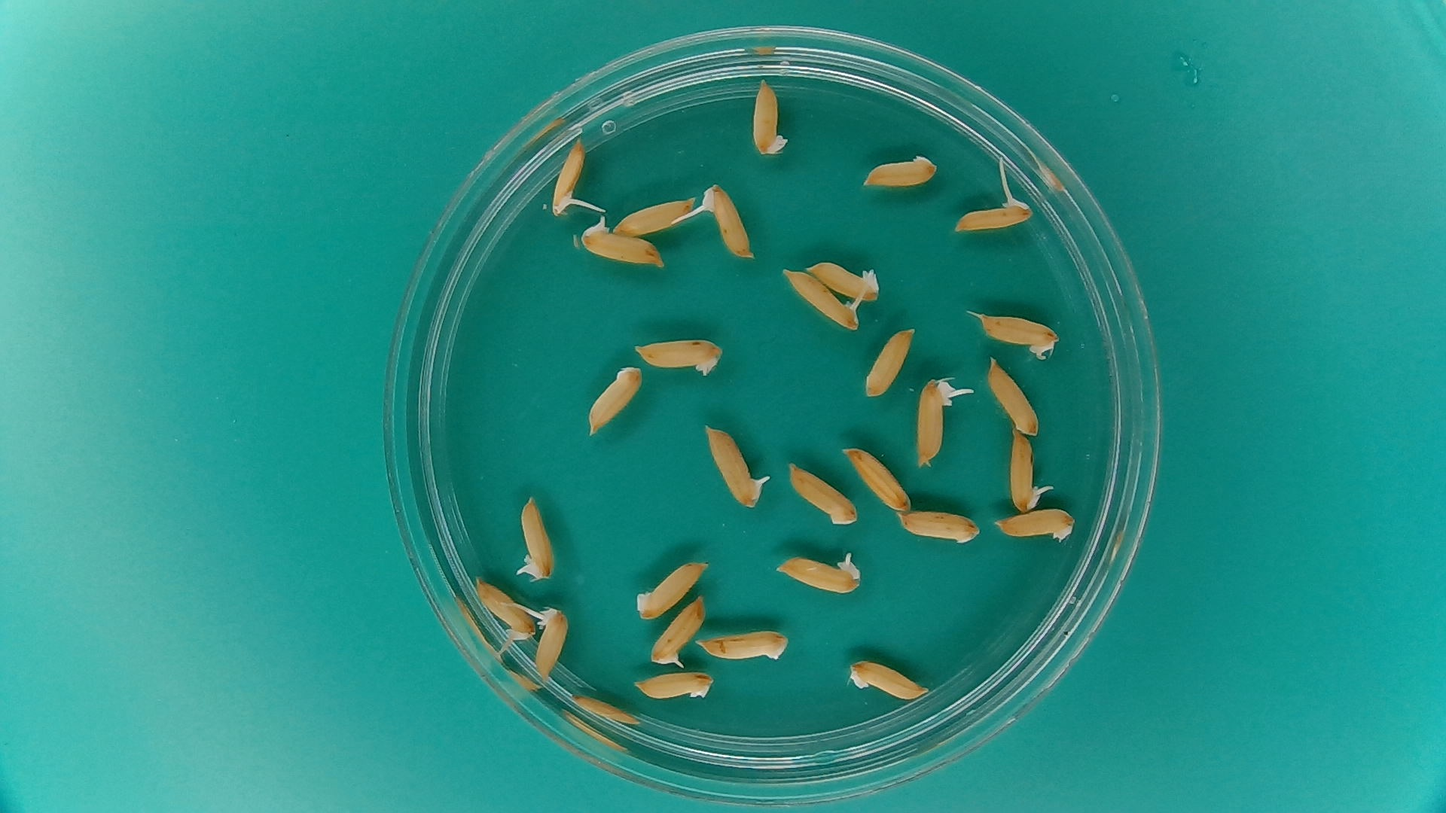no: (632, 552, 714, 621), (838, 441, 912, 512), (786, 458, 859, 528), (982, 352, 1042, 437), (970, 307, 1063, 360), (583, 361, 645, 437), (628, 331, 728, 378), (859, 322, 918, 400), (694, 623, 793, 666), (846, 654, 934, 702), (892, 506, 983, 548), (802, 255, 883, 301), (610, 194, 696, 237), (748, 75, 791, 159), (992, 504, 1077, 545), (629, 666, 717, 705), (857, 150, 941, 190), (568, 689, 642, 729)
yes: (702, 424, 767, 507), (784, 269, 862, 335), (769, 549, 866, 598), (700, 185, 758, 263), (647, 591, 706, 666), (578, 220, 664, 268), (474, 574, 535, 639), (529, 601, 572, 683), (911, 372, 948, 467), (950, 195, 1029, 234), (518, 498, 553, 586), (552, 139, 589, 219), (1009, 430, 1041, 514)
